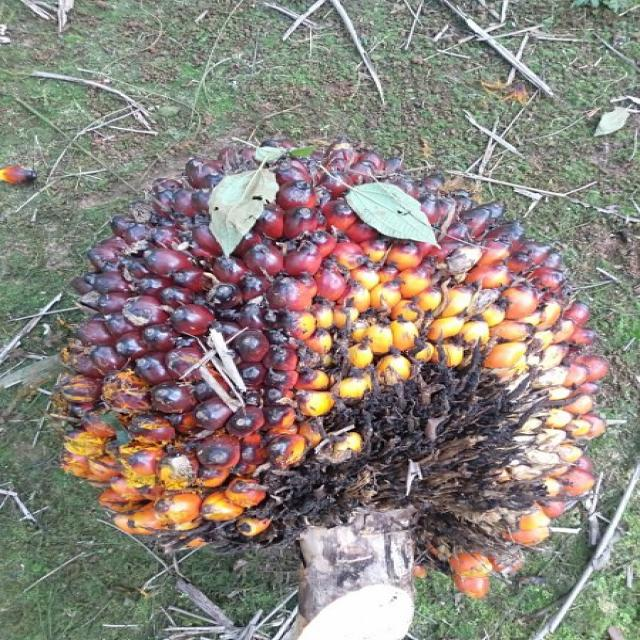fraksi 1: (21, 127, 640, 610)
